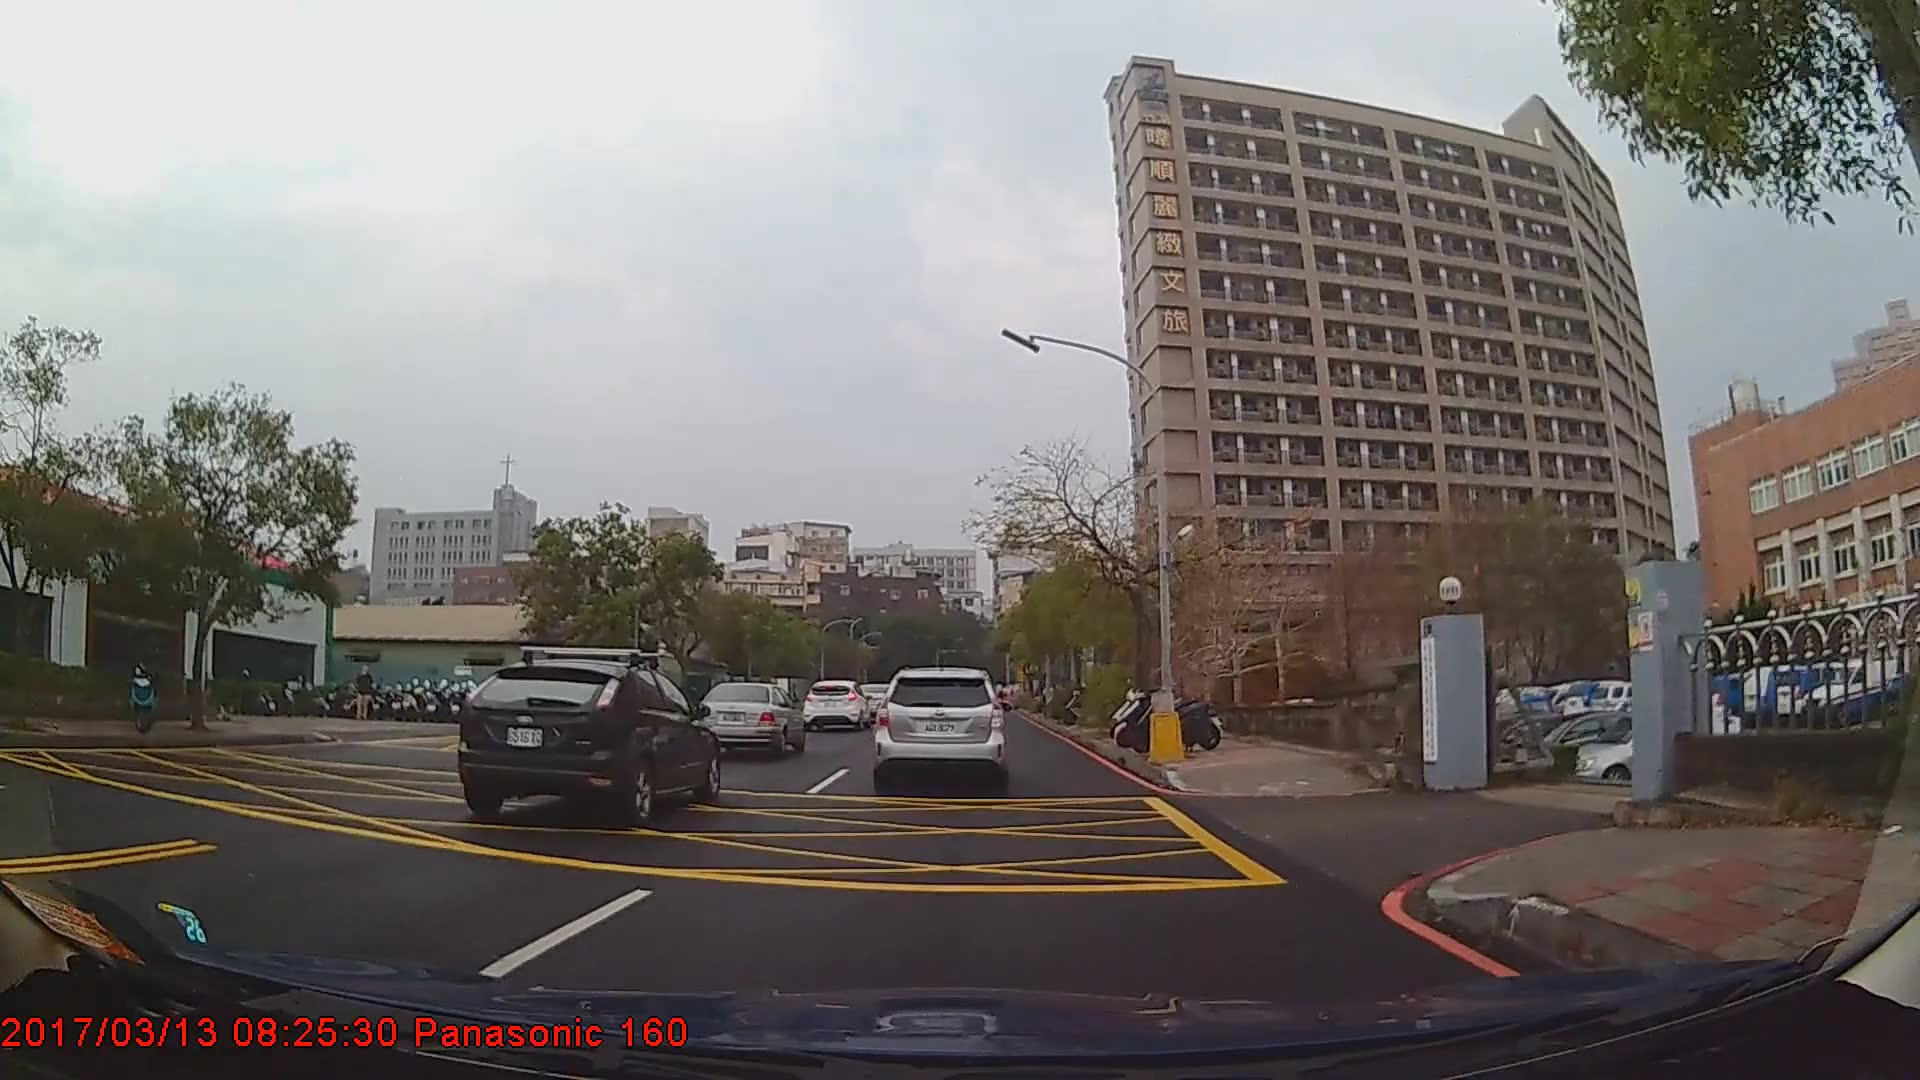pedestrian: (356, 664, 376, 723)
vehicle: (454, 659, 718, 827), (874, 666, 1004, 786), (695, 681, 806, 759), (803, 678, 871, 731)
